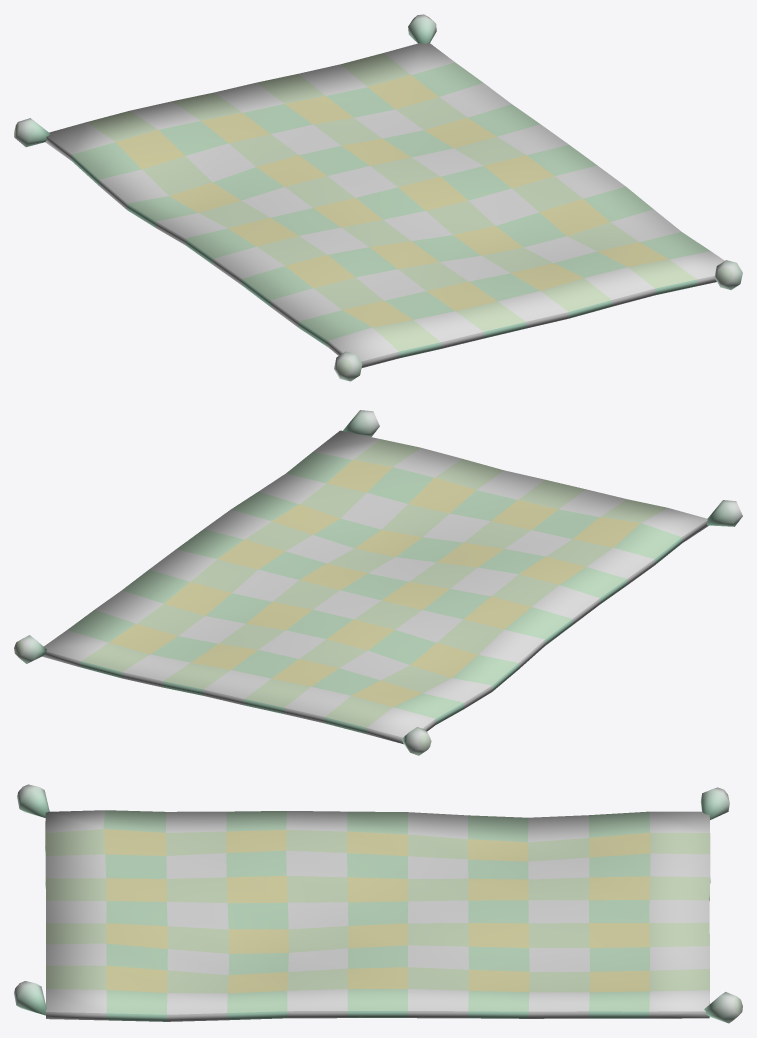
Rendered from cutepack2023picnicquilt03 1.fbx.
The picture shows the model from 3 angles, top to bottom: view 1: azimuth 30°, elevation 25°; view 2: azimuth 150°, elevation 25°; view 3: azimuth 270°, elevation 25°; orthographic projection. The views are drawn at different scales.
Parts seen in each view (by area): view 1: Sphere.288; view 2: Sphere.288; view 3: Sphere.288.
Boxes of the visible parts, x1=… form: Sphere.288: x1=14, y1=14, x2=742, y2=381; Sphere.288: x1=14, y1=410, x2=742, y2=755; Sphere.288: x1=14, y1=784, x2=742, y2=1023.
Size of the model in its own units: 334 by 25.03 by 466.
